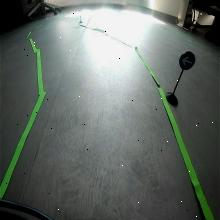left: (178, 51, 196, 70)
